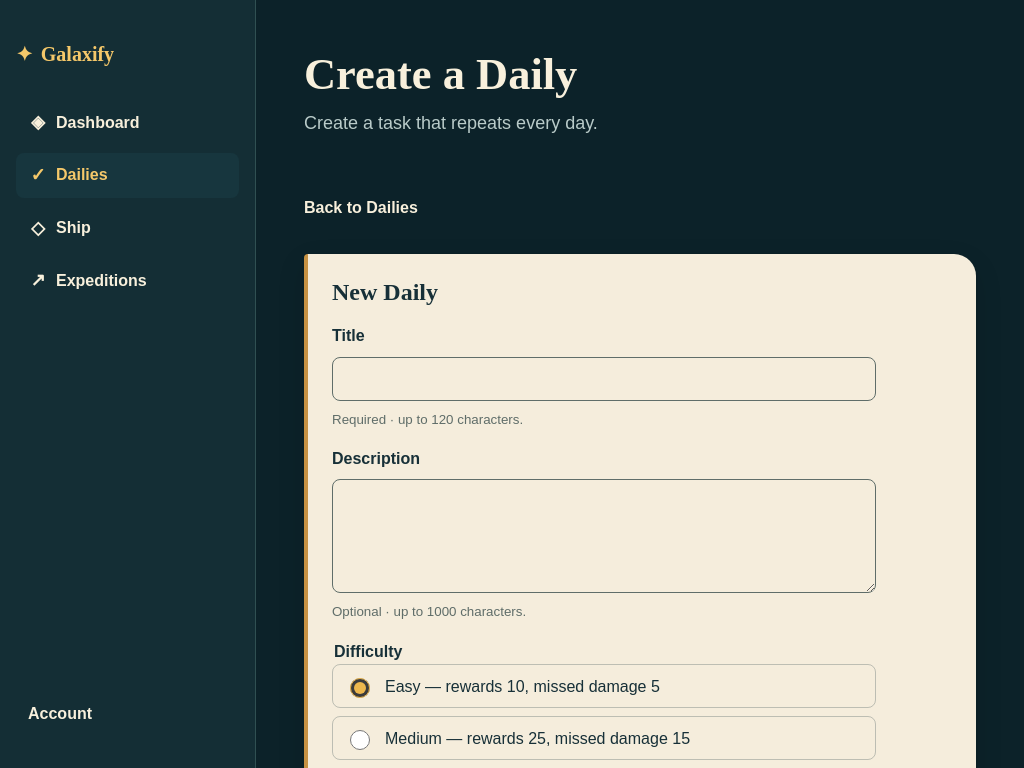
/dailies/new › maps backend field errors inline and preserves input
Expected: the heading "Create a Daily" is shown, x1=304 y1=49 x2=577 y2=99
In the field labelled "Title": (604, 379) x1=332 y1=357 x2=876 y2=401, type "Check the star charts"
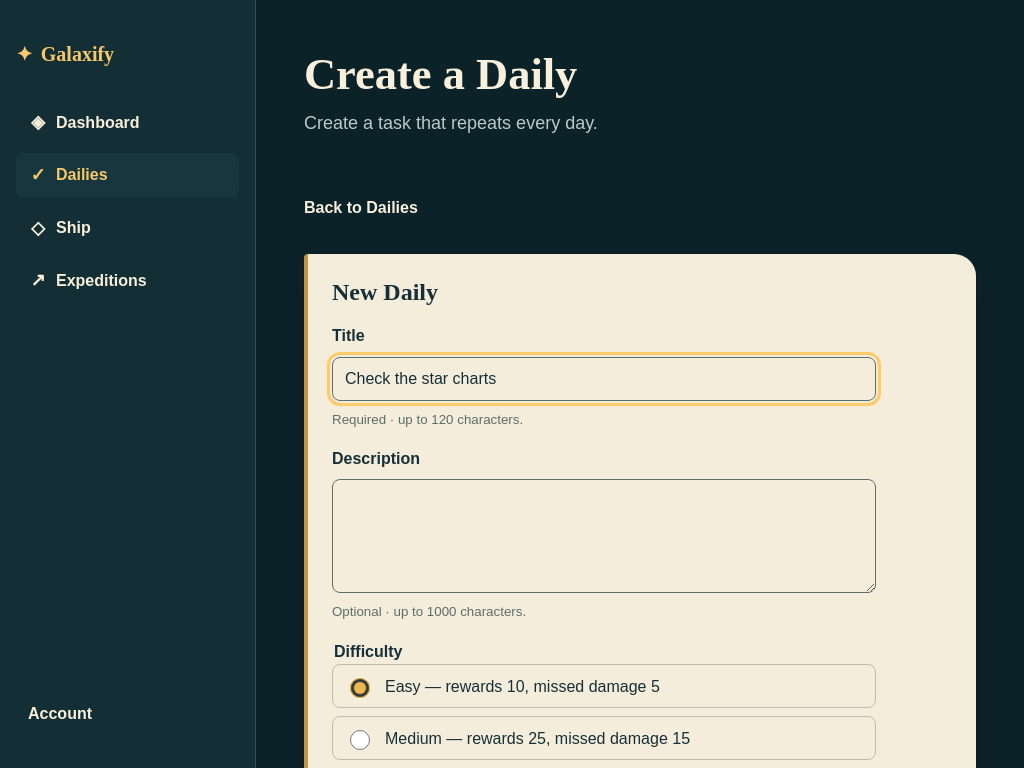
In the text box labelled "Description": (604, 536) x1=332 y1=480 x2=876 y2=594, type "A nightly scan for drift."
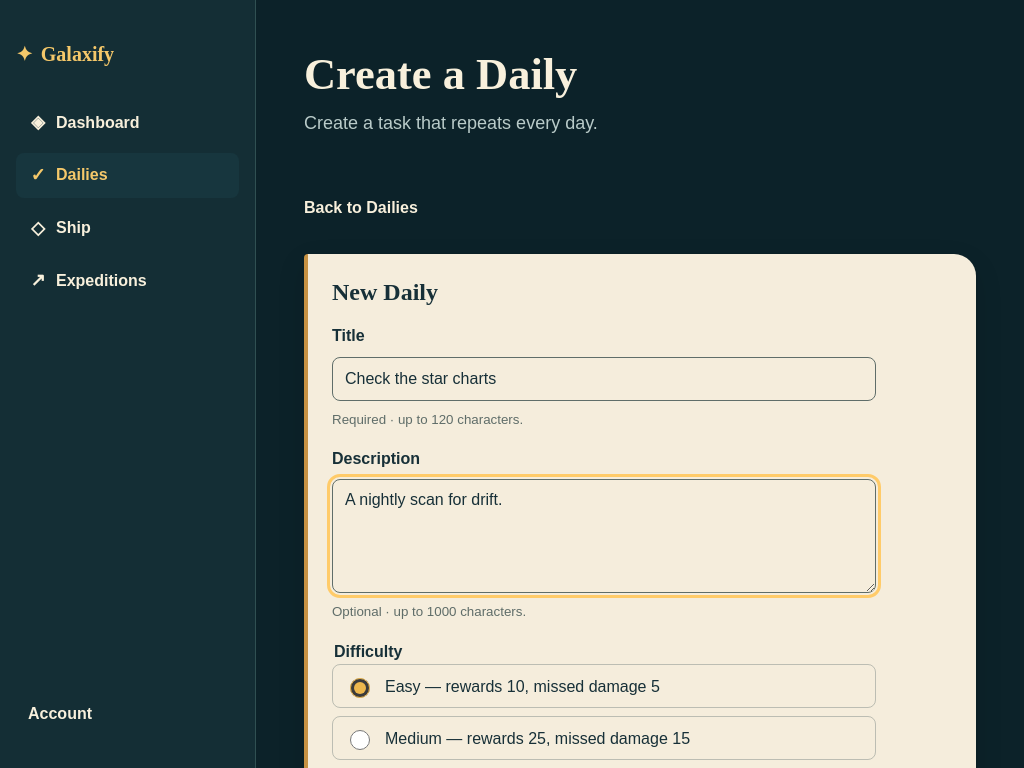
Click the radio button labelled "Medium — rewards 25, missed damage 15": (360, 740) x1=350 y1=730 x2=370 y2=750
(page scrolled)
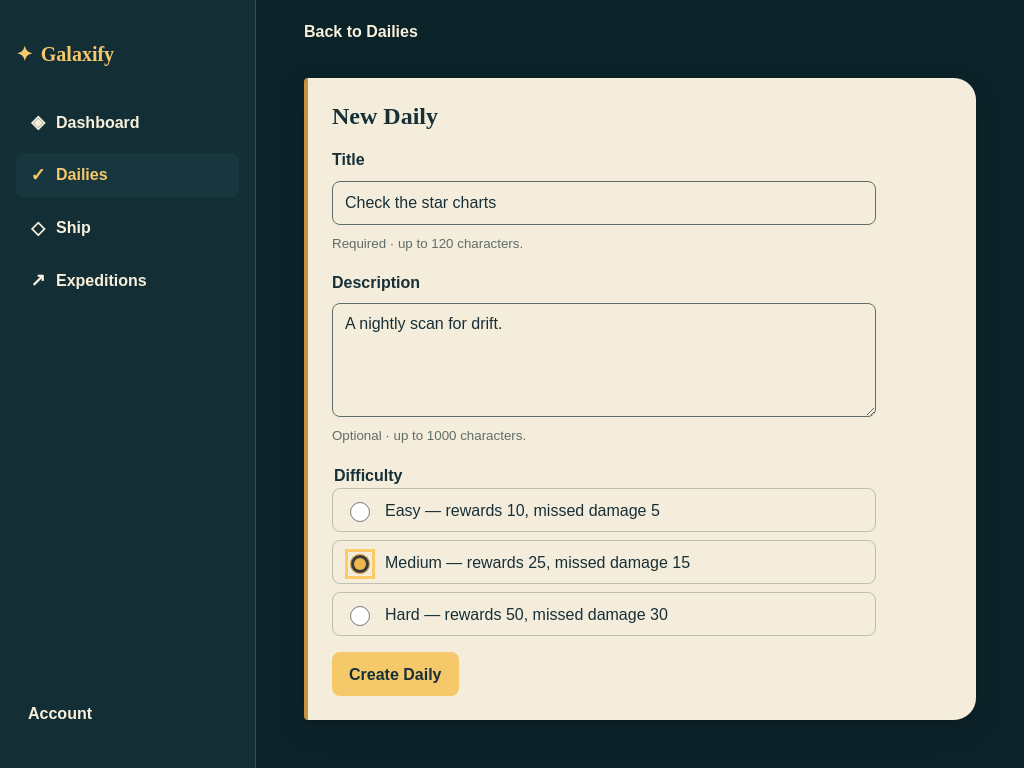
Click the button "Create Daily": (395, 674) x1=332 y1=652 x2=458 y2=696
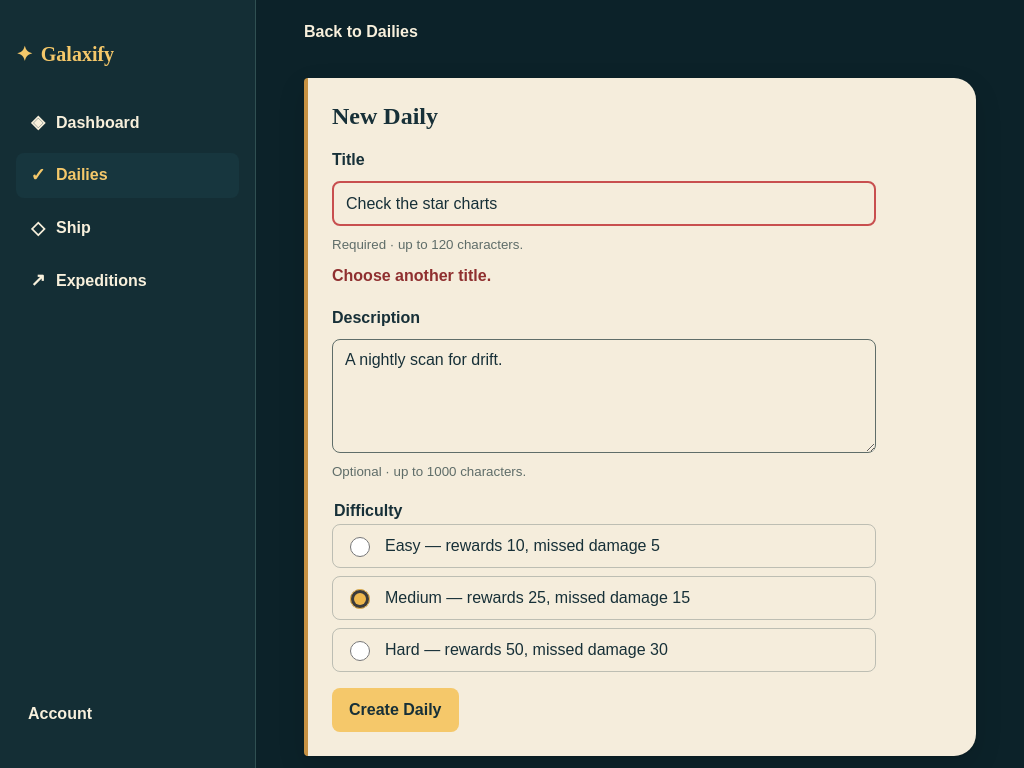
Now the text "Choose another title." is shown, box x1=332 y1=268 x2=491 y2=284
